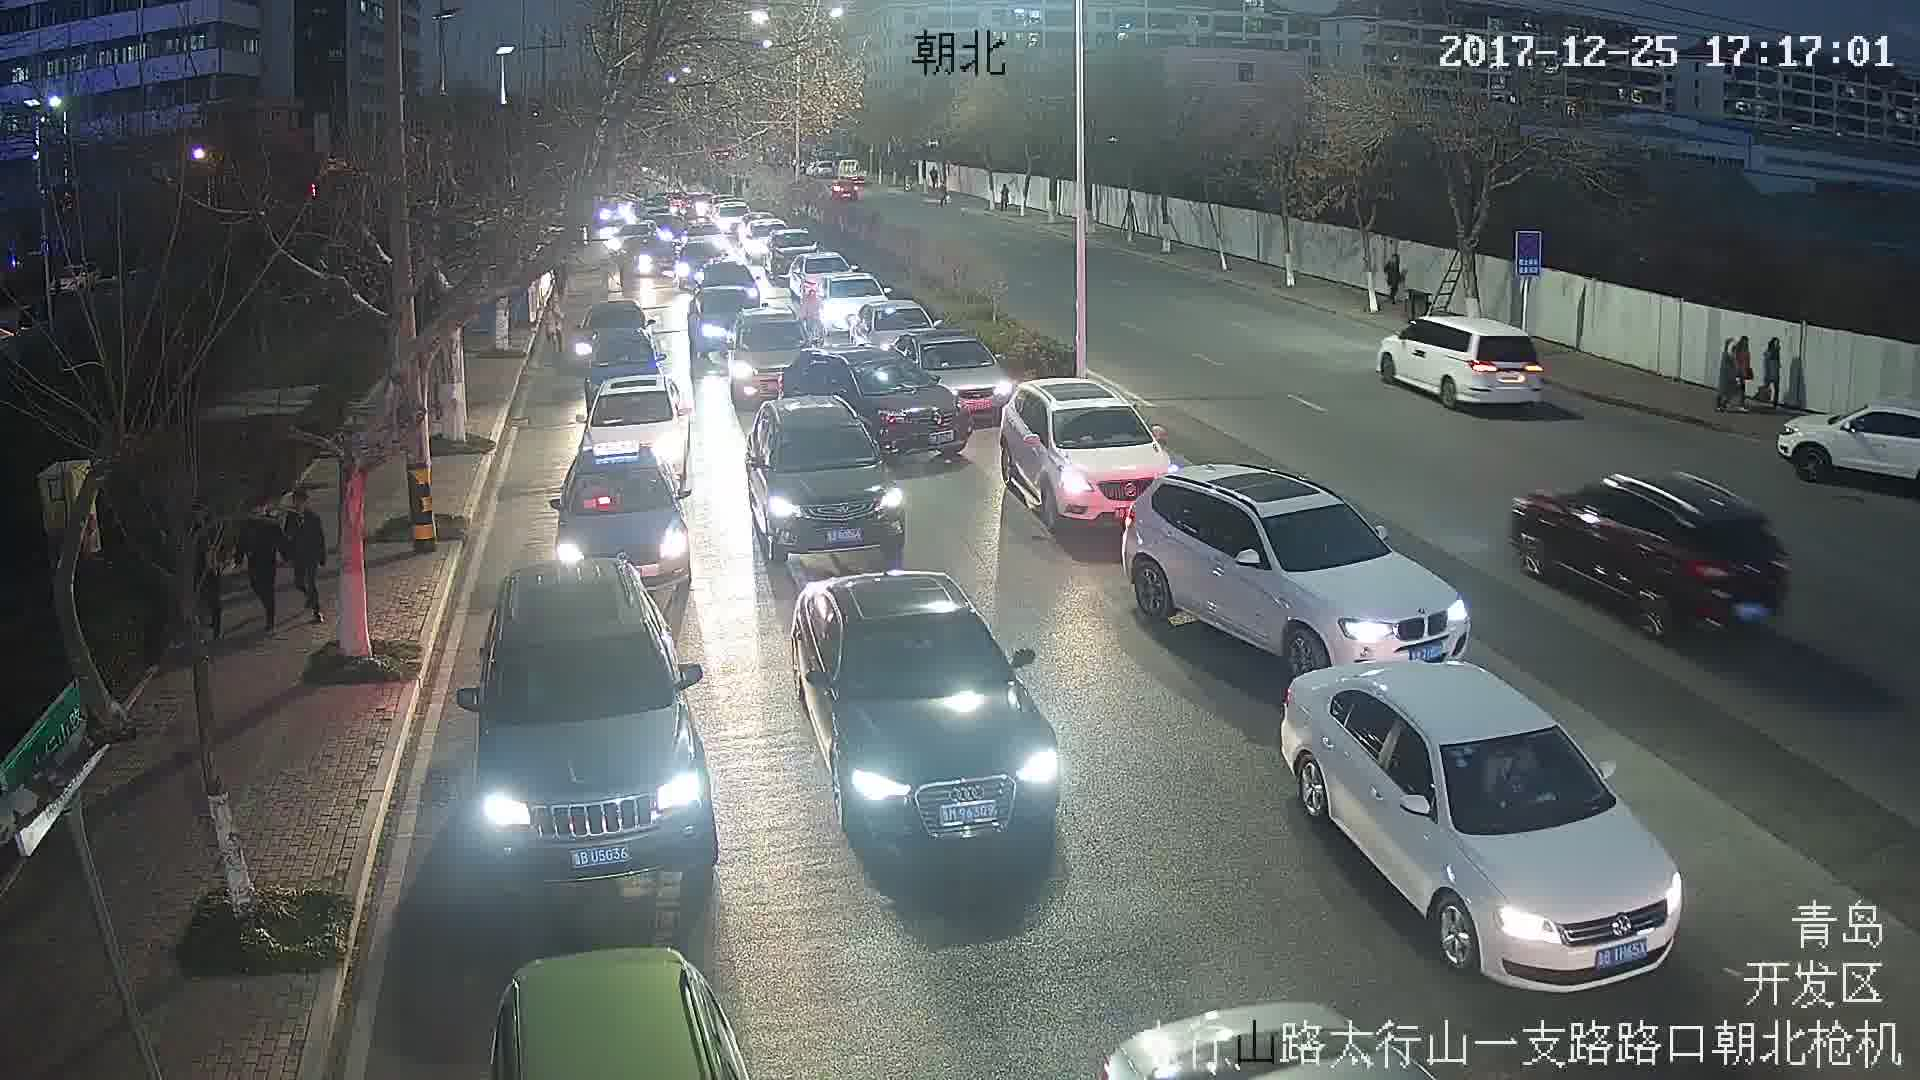car: (1274, 656, 1687, 992), (457, 567, 720, 877), (787, 571, 1066, 848), (1505, 466, 1793, 642), (745, 396, 907, 555), (1006, 374, 1175, 525), (556, 449, 692, 585), (1374, 314, 1548, 412)
person: (241, 507, 289, 634), (284, 487, 325, 624), (1738, 334, 1756, 405), (1766, 332, 1782, 413), (1720, 337, 1737, 409), (1382, 255, 1402, 302)
